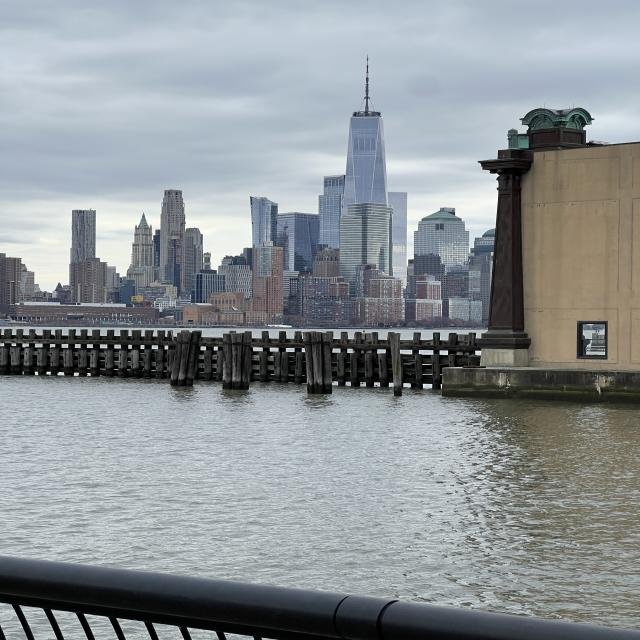WTC: (344, 55, 389, 204)
